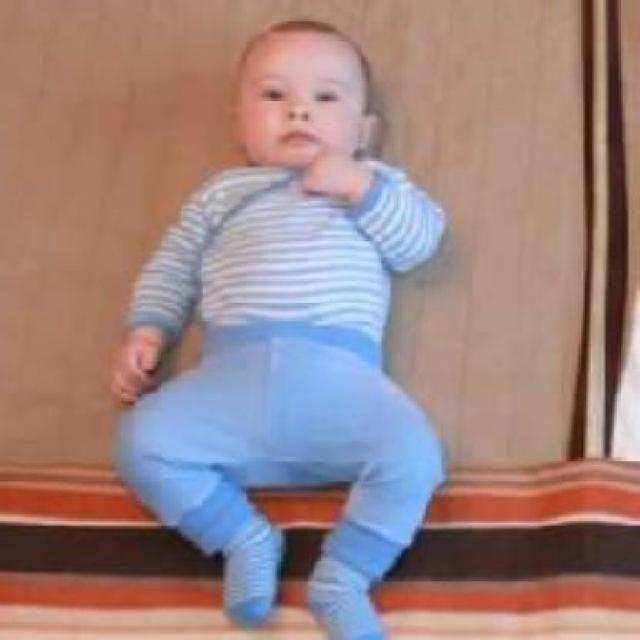baby: (105, 18, 448, 638)
